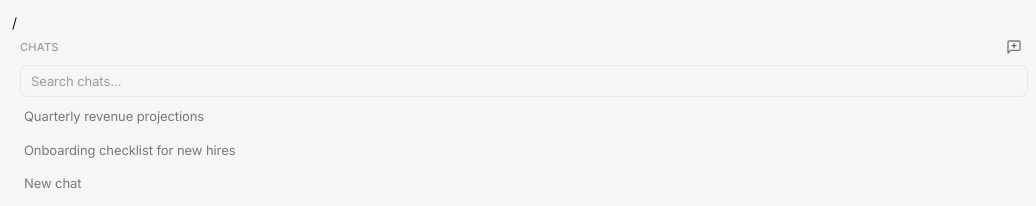
Test: shows "No chats match" when the filter matches nothing
Check: the link "Quarterly revenue projections" is shown, box x1=24 y1=108 x2=204 y2=124
Type "zzz-nothing-matches" into the search field with placeholder "Search chats…" at (524, 81), box x1=20 y1=65 x2=1028 y2=97
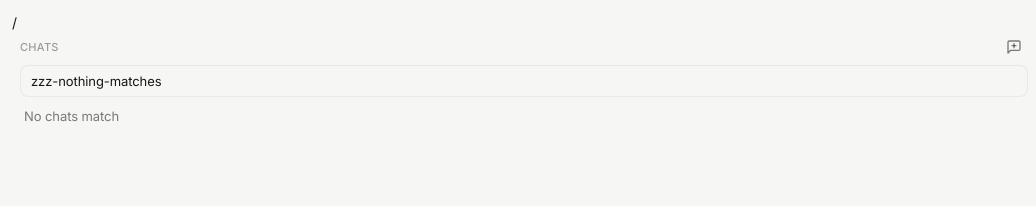
Check: the text "No chats match" is shown, box x1=24 y1=108 x2=119 y2=124
